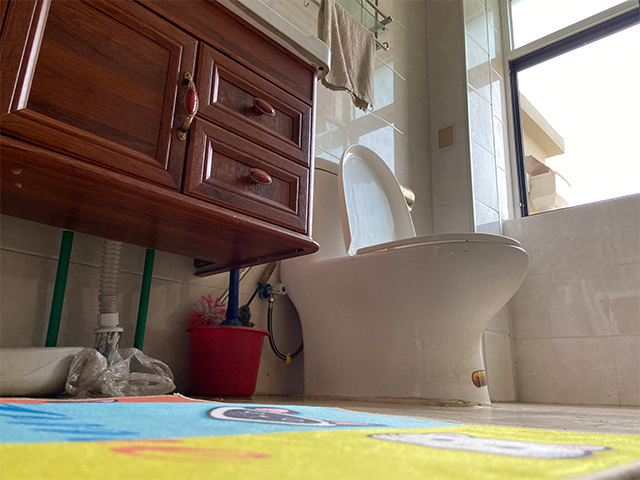carpet: (1, 392, 640, 480)
closestool: (278, 144, 531, 408)
